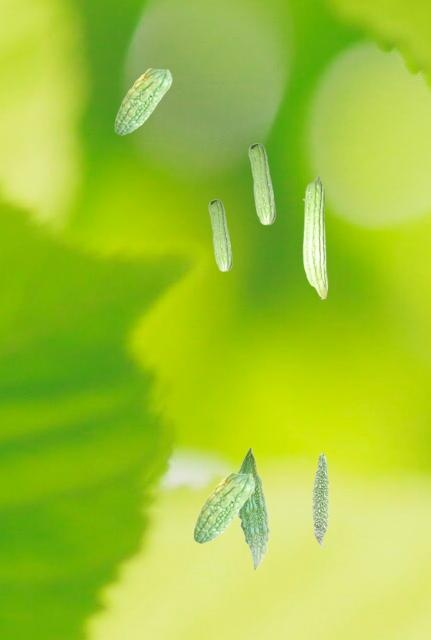ampalaya: (193, 471, 255, 544), (236, 446, 270, 570), (114, 67, 172, 135), (302, 175, 328, 300), (248, 142, 276, 225), (311, 452, 330, 546), (208, 199, 232, 272)
